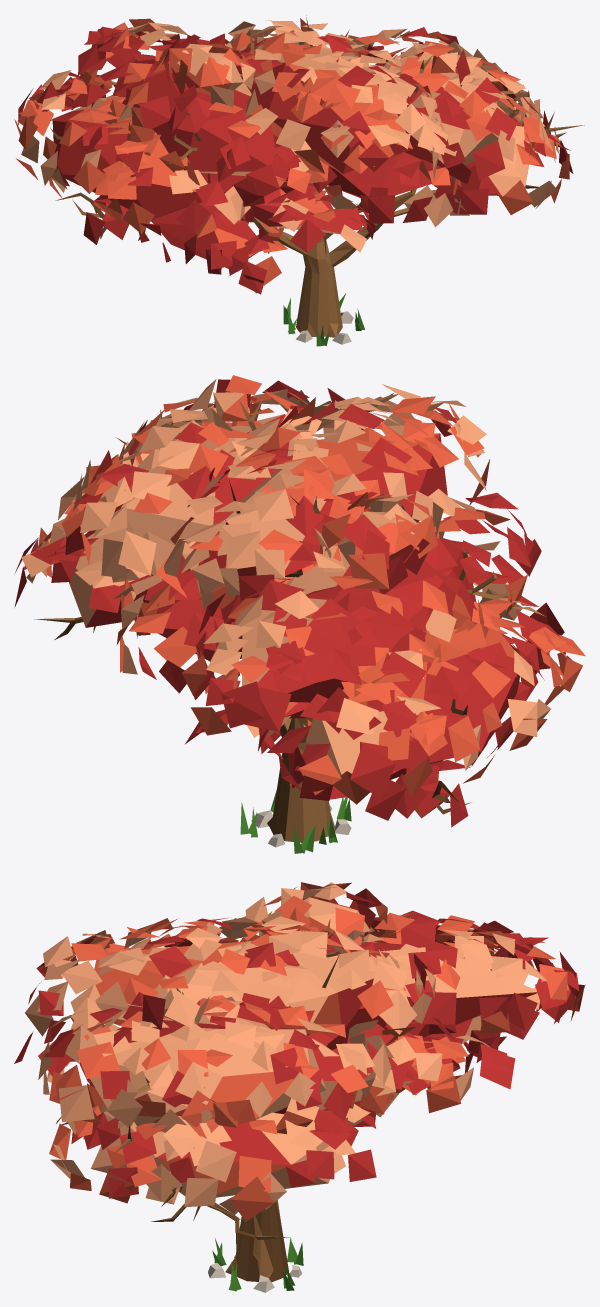
File: cherry_var_autumn.glb
3 views of the same model, one above another, from view 1: azimuth 30°, elevation 25°; view 2: azimuth 150°, elevation 25°; view 3: azimuth 270°, elevation 25° (orthographic). The views are drawn at different scales.
Parts seen in each view (by area): view 1: cherry_var_autumn; view 2: cherry_var_autumn; view 3: cherry_var_autumn.
Boxes of the visible parts, left/top/right/bottom form: cherry_var_autumn: left=14, top=15, right=584, bottom=346; cherry_var_autumn: left=14, top=375, right=585, bottom=853; cherry_var_autumn: left=14, top=882, right=585, bottom=1292.
Size of the model in its own units: 9.85 by 6.28 by 9.57.
